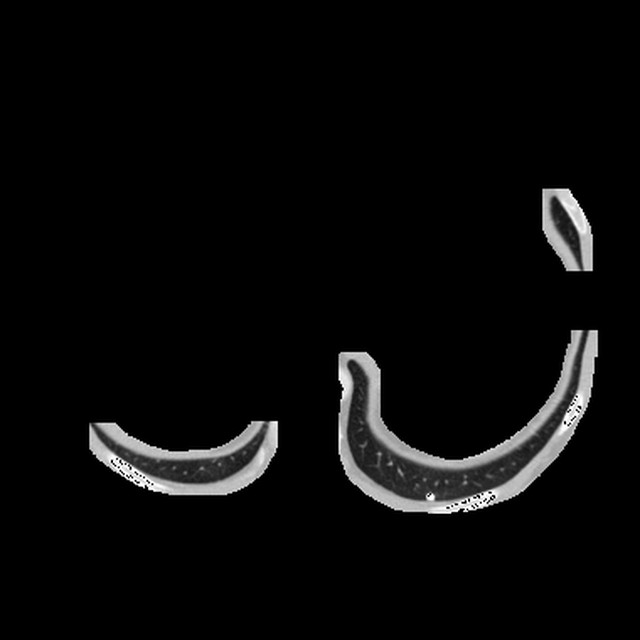PN: (426, 493, 433, 500)
